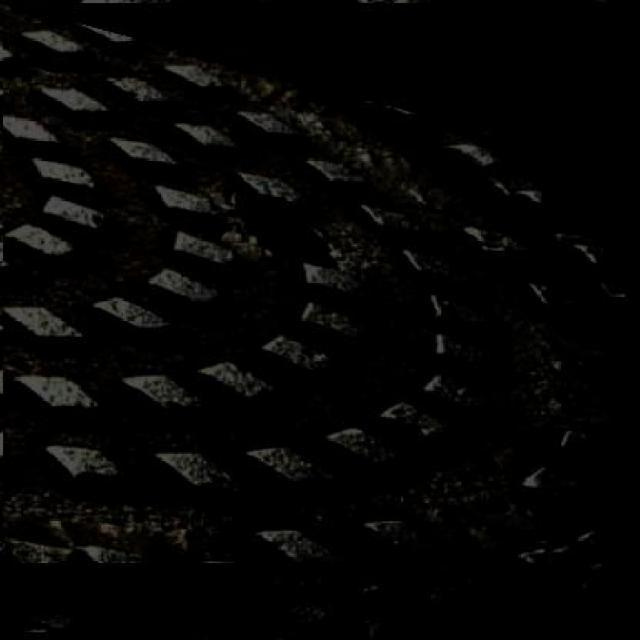Manhole: (3, 4, 640, 564)
